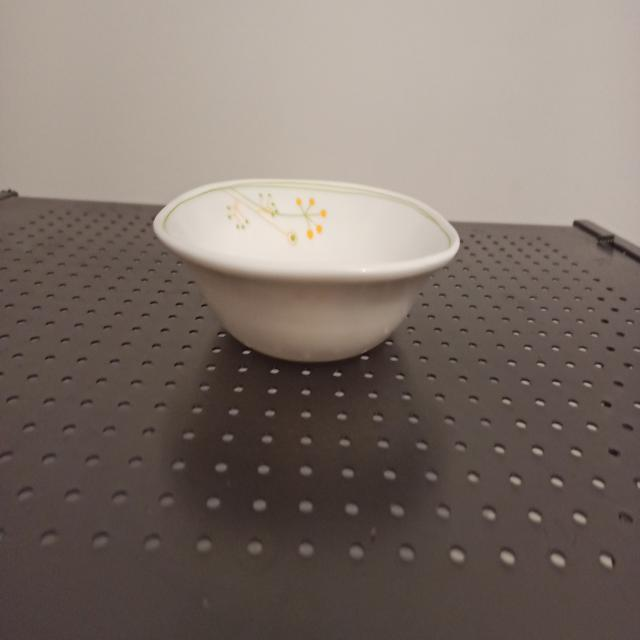non-organic waste: (139, 151, 466, 367)
